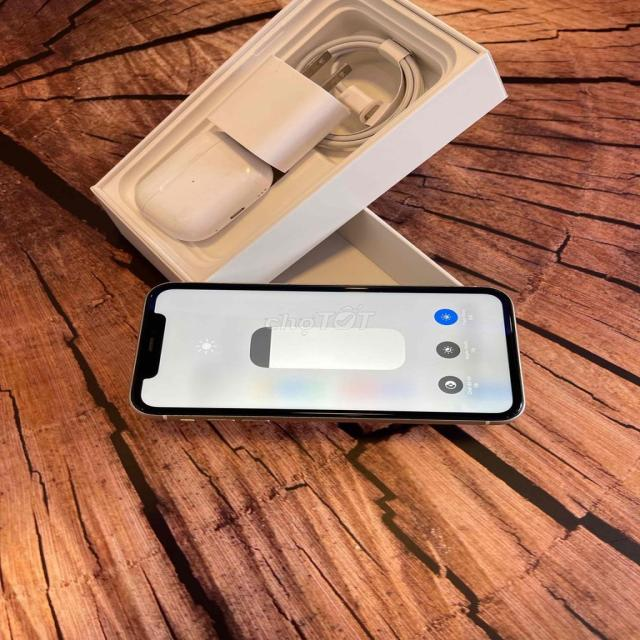gen_11: (132, 284, 522, 423)
